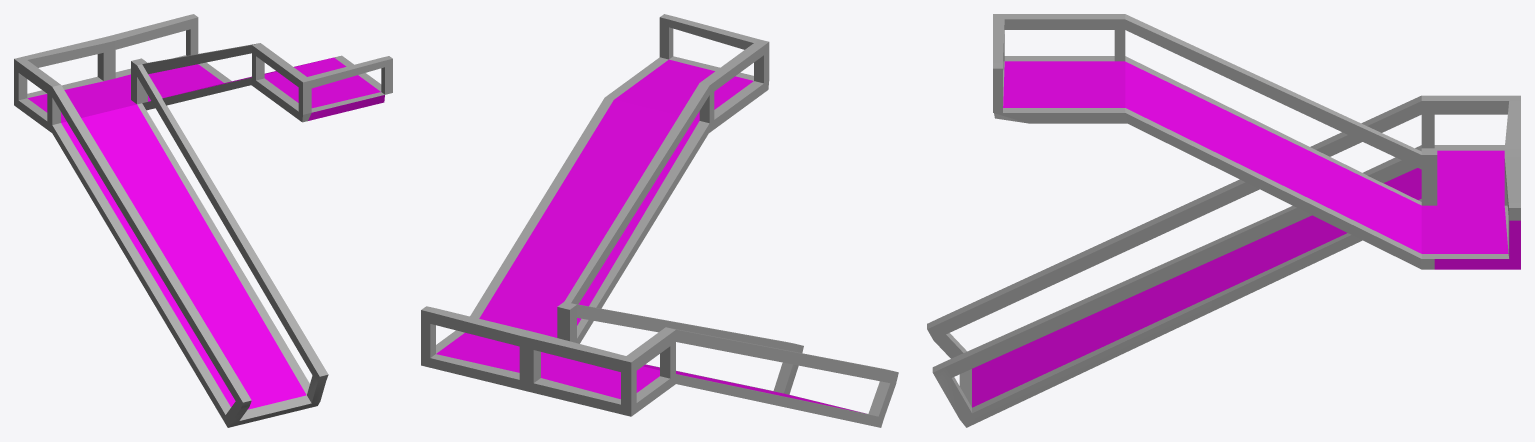
Rendered from escalier.fbx.
3 views of the same model, side by side, from view 1: azimuth 30°, elevation 25°; view 2: azimuth 150°, elevation 25°; view 3: azimuth 270°, elevation 25° (orthographic). The views are drawn at different scales.
Parts seen in each view (by area): view 1: pCube2; view 2: pCube2; view 3: pCube2.
Boxes of the visible parts, bbox=[...] form: pCube2: bbox=[14, 14, 392, 427]; pCube2: bbox=[421, 14, 898, 427]; pCube2: bbox=[927, 14, 1520, 427].
Size of the model in its own units: 22.73 by 38.53 by 50.13.
